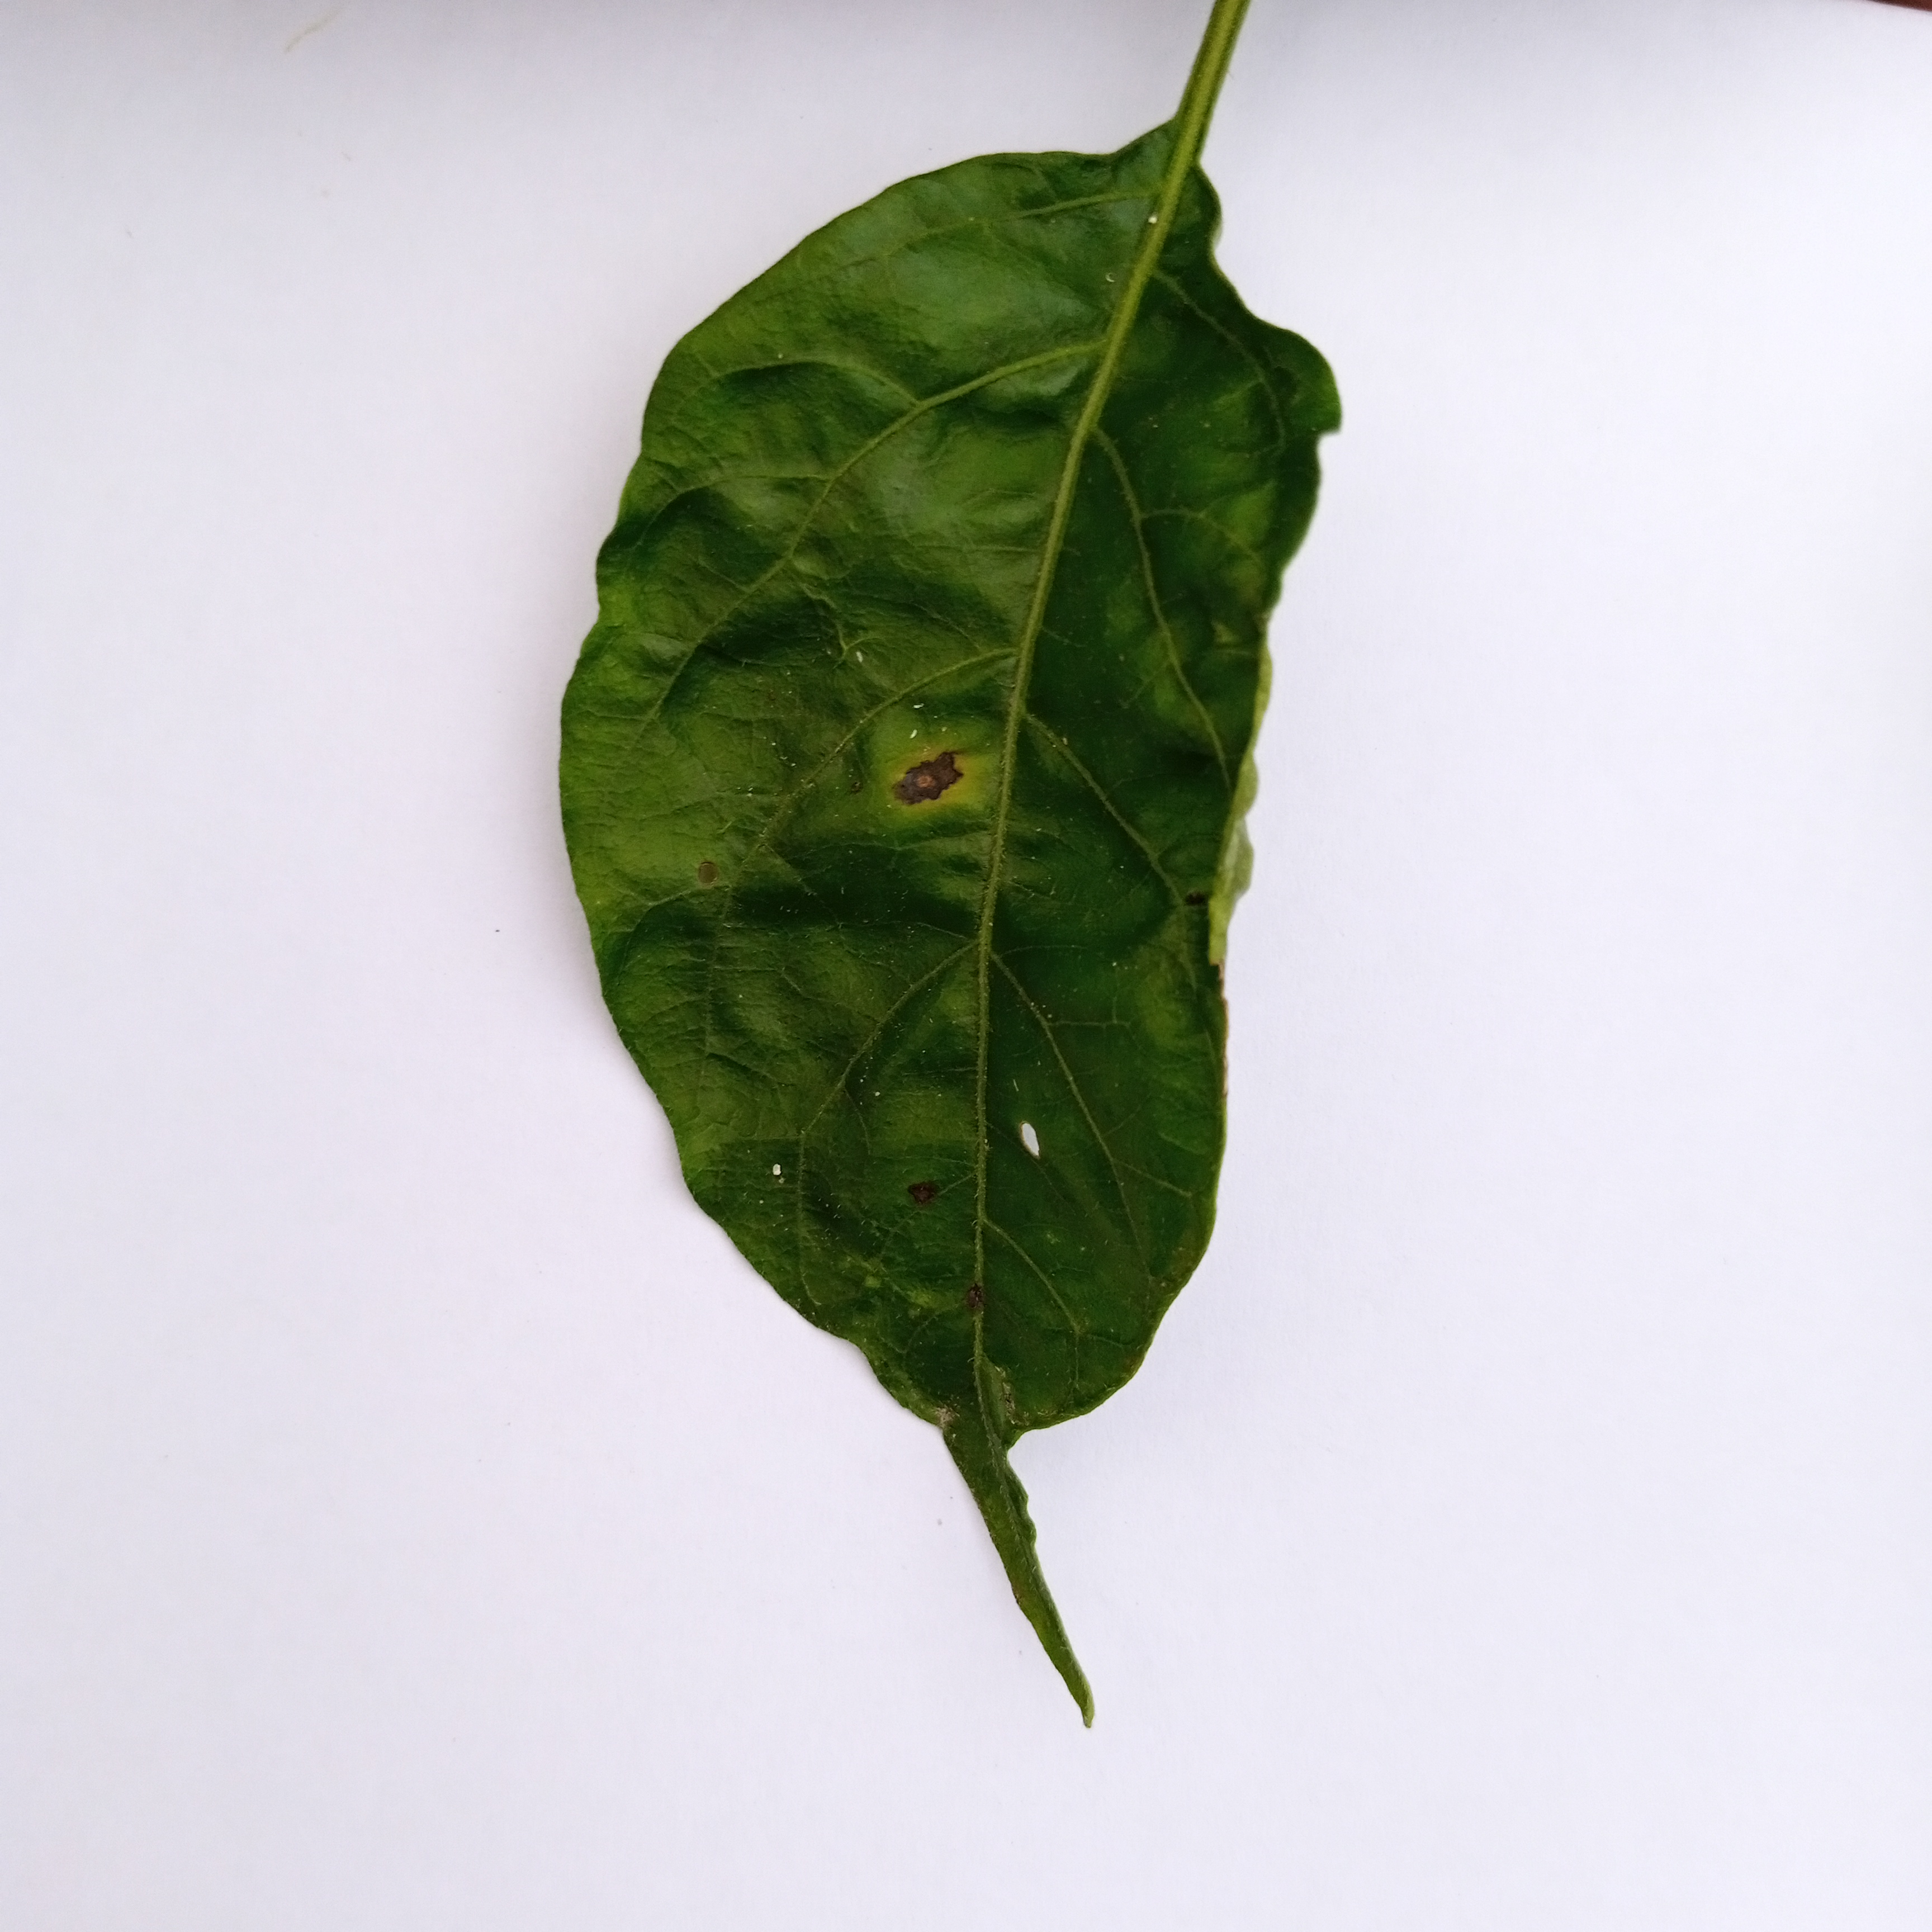Leaf: (464, 58, 1529, 1734)
